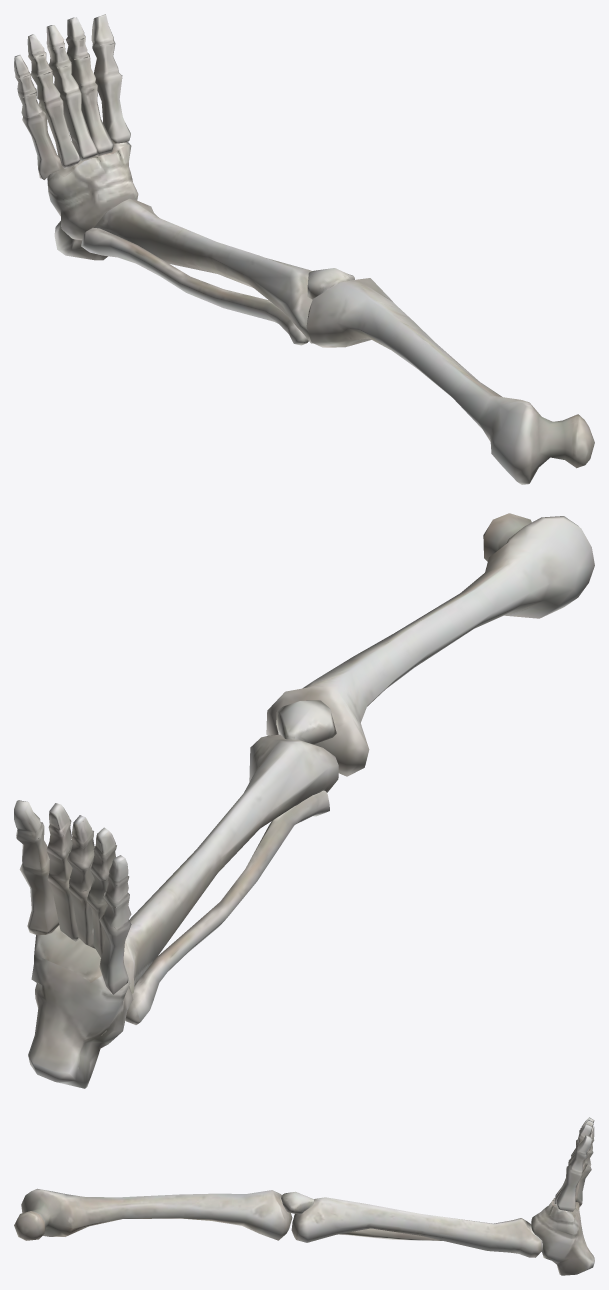
The picture shows the model from 3 angles, top to bottom: view 1: azimuth 30°, elevation 25°; view 2: azimuth 150°, elevation 25°; view 3: azimuth 270°, elevation 25°; orthographic projection. The views are drawn at different scales.
Visible parts, largest first — view 1: SM_Leg_L_LOD0; view 2: SM_Leg_L_LOD0; view 3: SM_Leg_L_LOD0.
Part boxes in pixels (box(x1,y1,x2,y2)): SM_Leg_L_LOD0: box(14, 14, 594, 484); SM_Leg_L_LOD0: box(14, 513, 594, 1088); SM_Leg_L_LOD0: box(14, 1117, 594, 1275).
Bounding box in the file's own units: 0.1801 × 0.2763 × 0.9876.
Materials: 1 (1 with a texture image).
